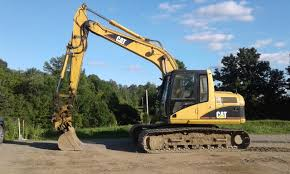excavator: (49, 4, 251, 153)
